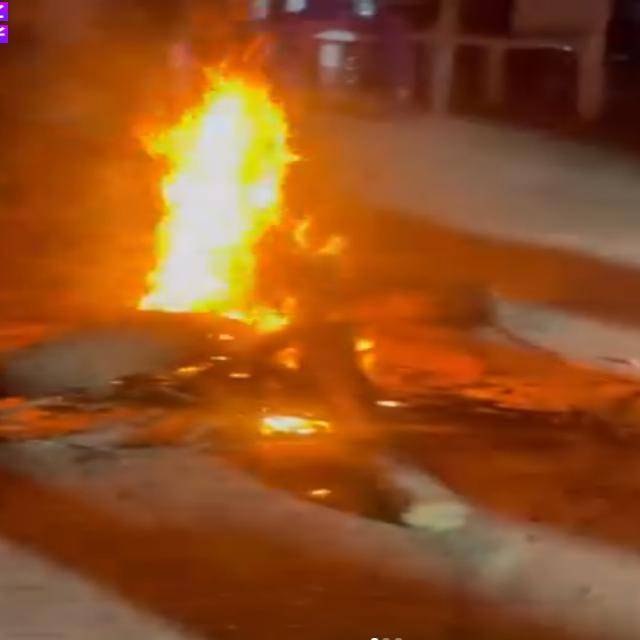fire: (138, 47, 302, 333), (262, 415, 333, 437)
